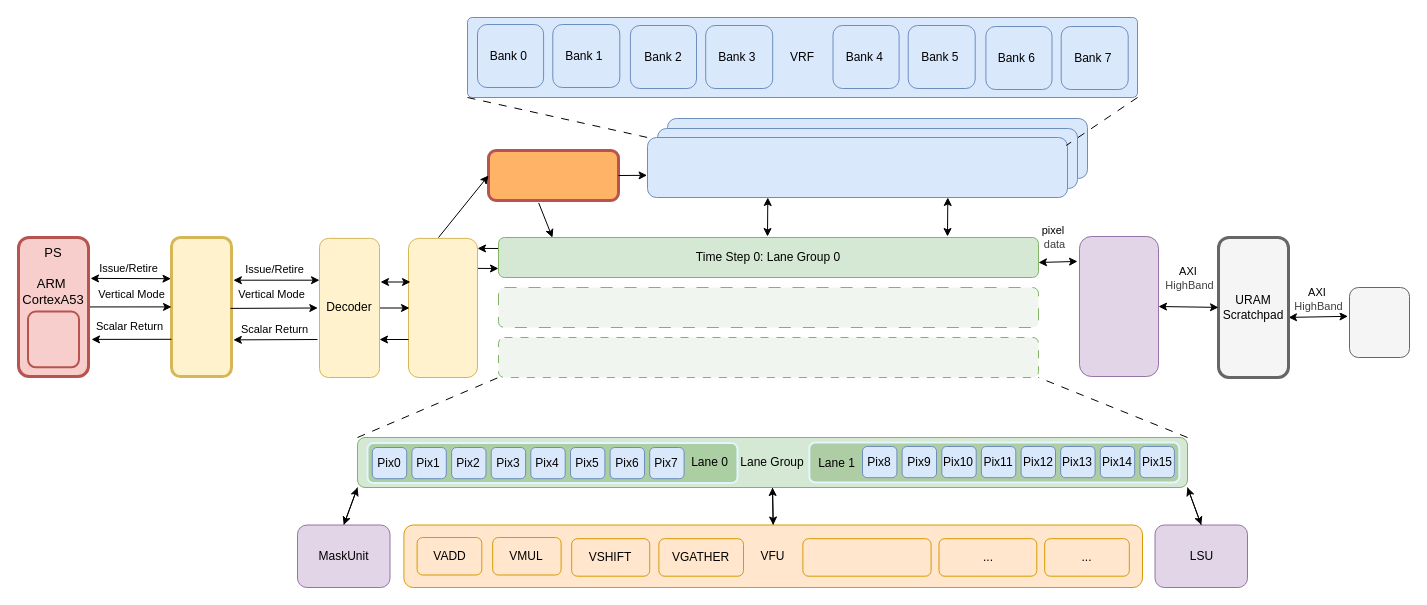
Some shapes in this 1427 by 605 pixel diagram are drawn without their labels. The shapes that lost their labels are listed below. From the top down, each one's centre as x and y in pixels, then its label:
At point 553,175: "Time Multiplex FSM".
At point 857,167: "Vector Register File".
At point 201,307: "AXI-Lite Wrapper".
At point 443,307: "Sequencer".
At point 768,307: "Time Step 1: Lane Group 1".
At point 1118,306: "LSU Arbiter".
At point 1379,322: "DDR".
At point 53,339: "LibT1 Driver".
At point 768,357: "Time Step 127: Lane Group 127".
At point 866,557: "VREDUCE SUM".
